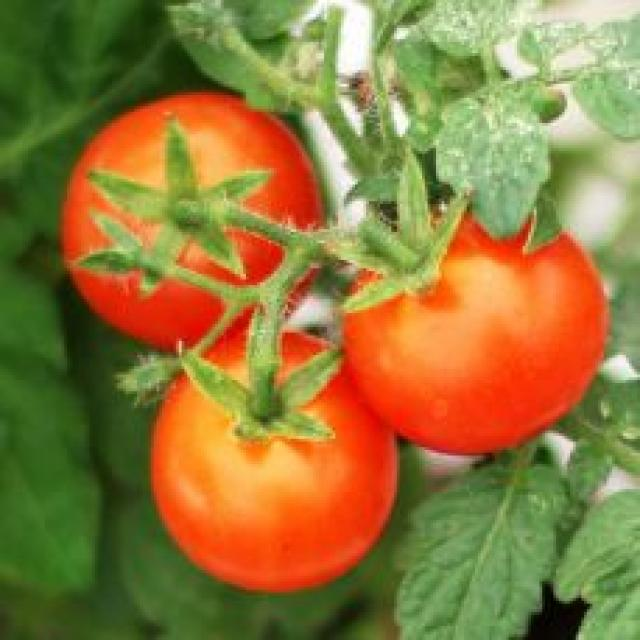level 5: (306, 175, 620, 477), (115, 308, 407, 621)
level 6: (42, 71, 352, 357)
